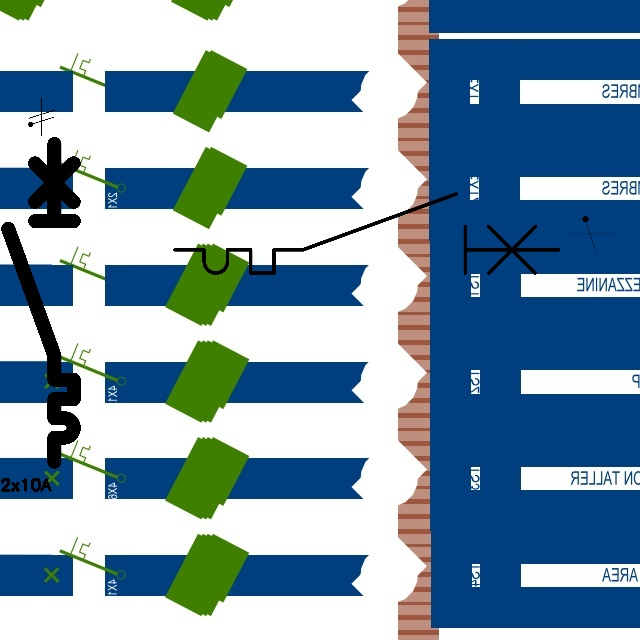interruptor_termomagnetico: (165, 184, 568, 283), (0, 135, 82, 469)
